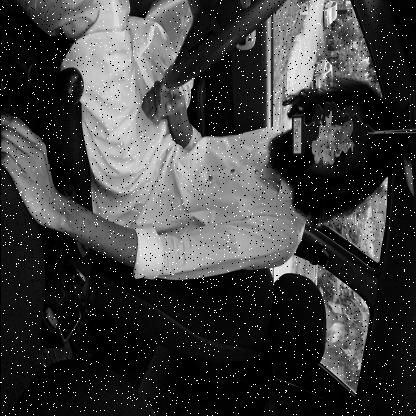no_seatbelt: (131, 74, 389, 248)
